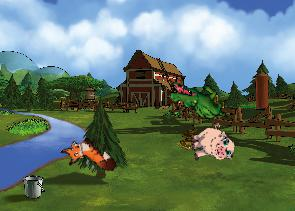crocodile: (168, 81, 229, 120)
fox: (57, 128, 119, 188)
pig: (187, 121, 236, 168)
